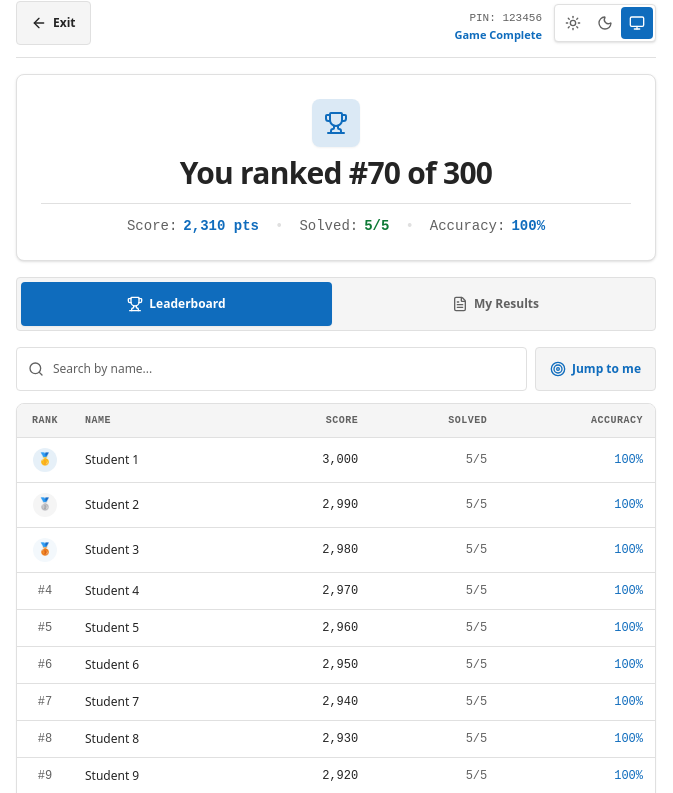
Scenario: FinalLeaderboard Component - F2 Client Tests › paginates 300 rows into pages of 25 and provides page controls and jump to me
The image size is (673, 793).
Expected: the text "Student 1" is shown, [85,452,139,468]
Expected: the text "Student 70" is not shown
Note: Click "Jump to me"
Click the button "Jump to me": x=596, y=369 [535,347,656,391]
(page scrolled)
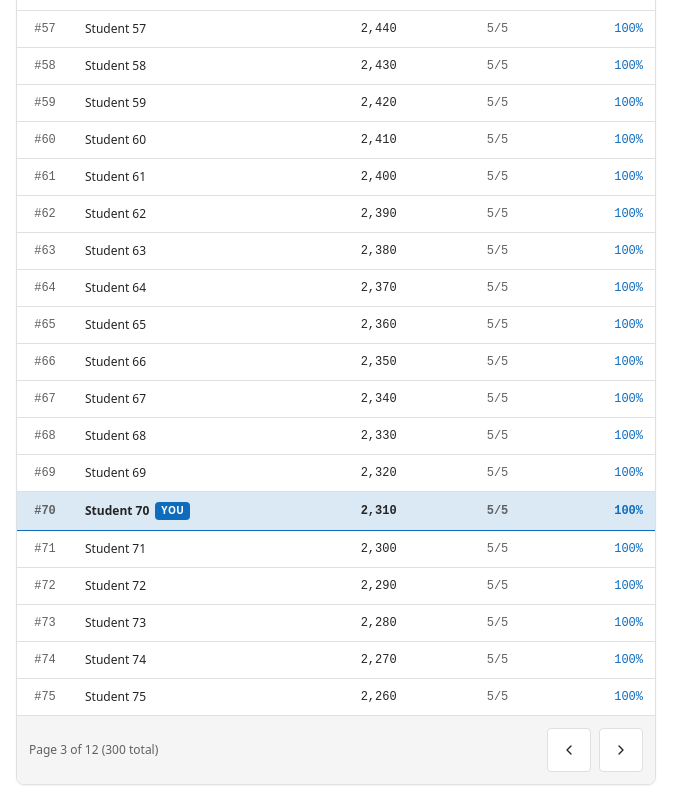
Expected: the text "Page 3 of 12 (300 total)" is shown, [29,742,158,758]
Expected: the text "Student 70" is shown, [85,503,149,519]
